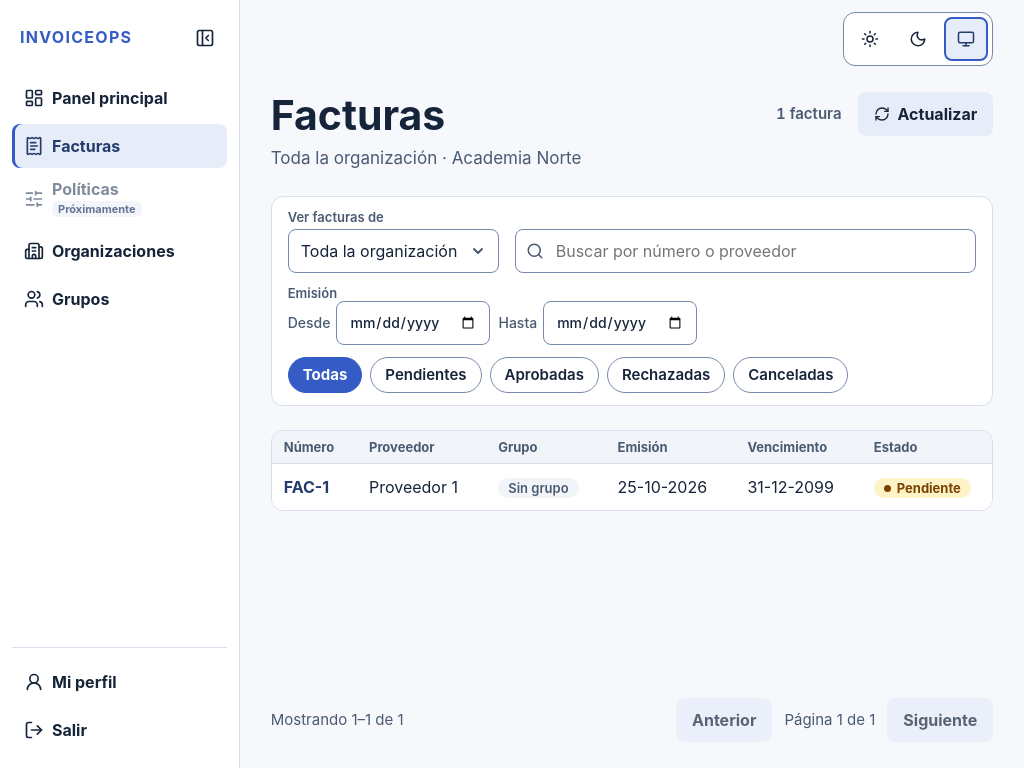
Test: APP12 S3 invoice presentation HTTP boundary › invalidates the current session on a current 401
Check: the heading "Facturas" is shown, box [271,90,445,140]
Check: the text "Proveedor 1" is shown, box [357,463,486,510]
Click the button "Actualizar".
click(925, 114)  # box [858,92,993,136]
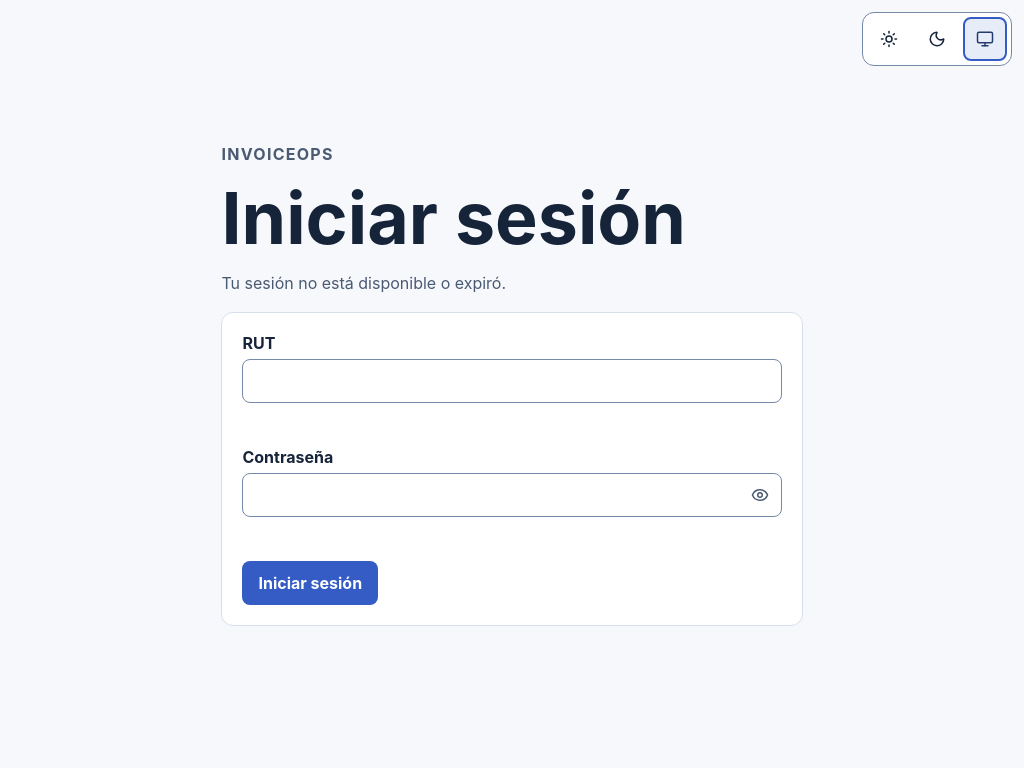
Check: the button "Iniciar sesión" is shown, box [242,561,378,605]
Check: the text "Proveedor 1" is gone
Check: the navigation bar is gone
